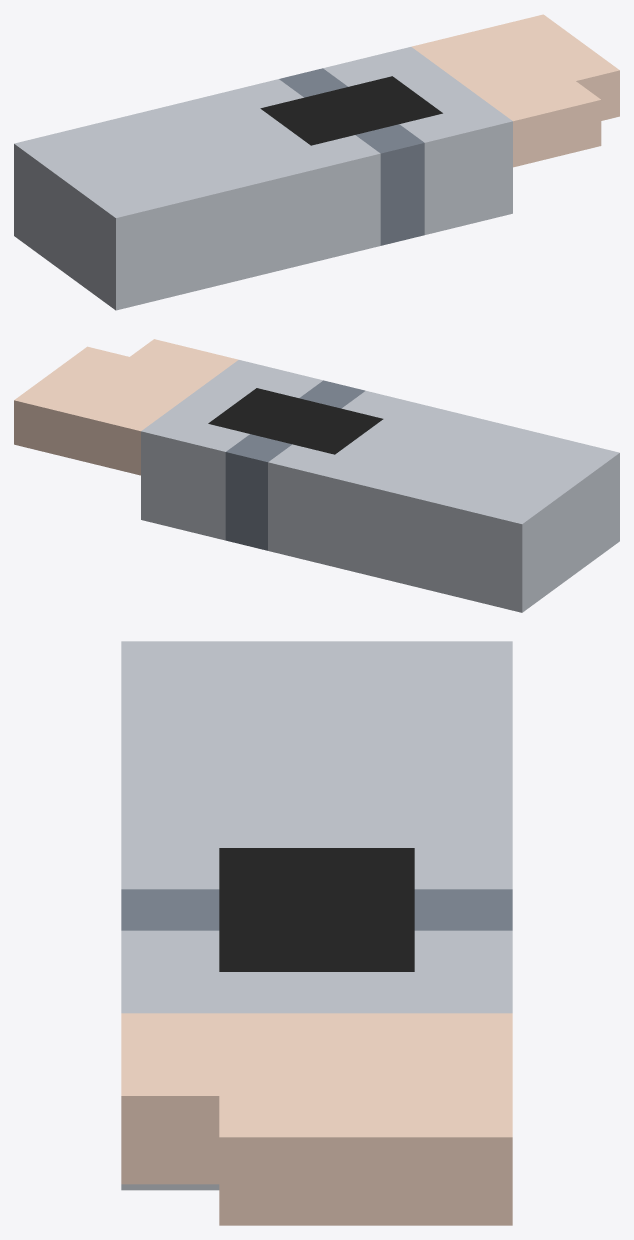
File: arm.obj
The picture shows the model from 3 angles, top to bottom: view 1: azimuth 30°, elevation 25°; view 2: azimuth 150°, elevation 25°; view 3: azimuth 270°, elevation 25°; orthographic projection. The views are drawn at different scales.
Size of the model in its own units: 1.2 by 0.2 by 0.4.
1 material, 1 textured.
